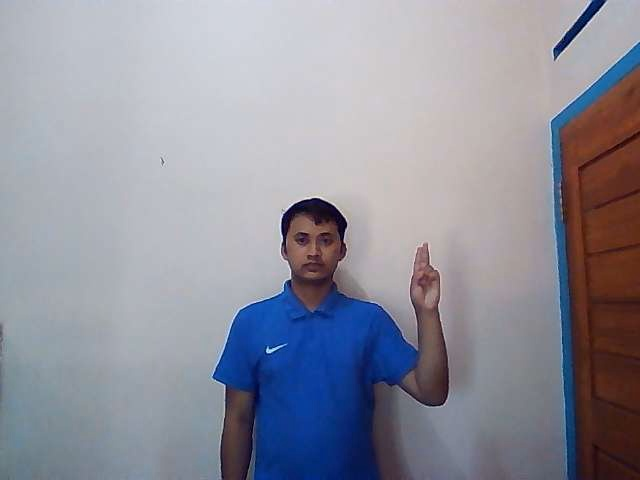U: (408, 242, 441, 312)
